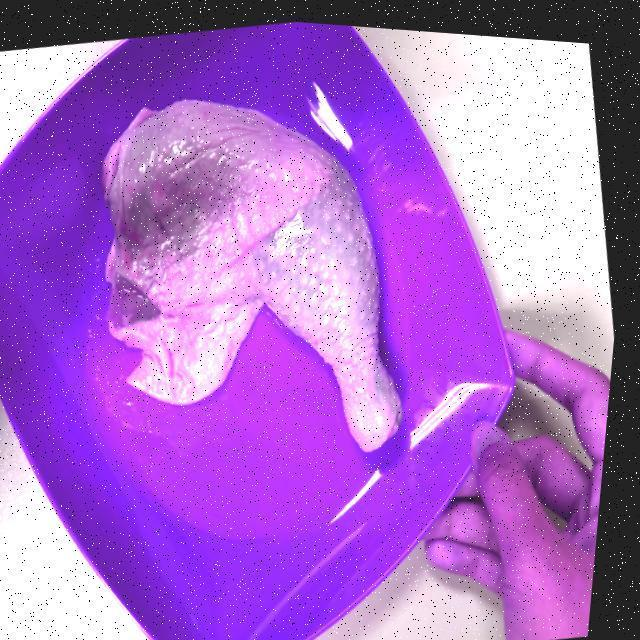quater: (100, 89, 424, 457)
